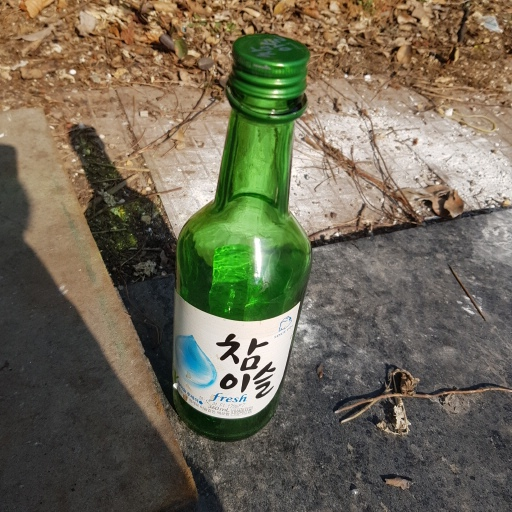Glass_0: (168, 32, 313, 441)
